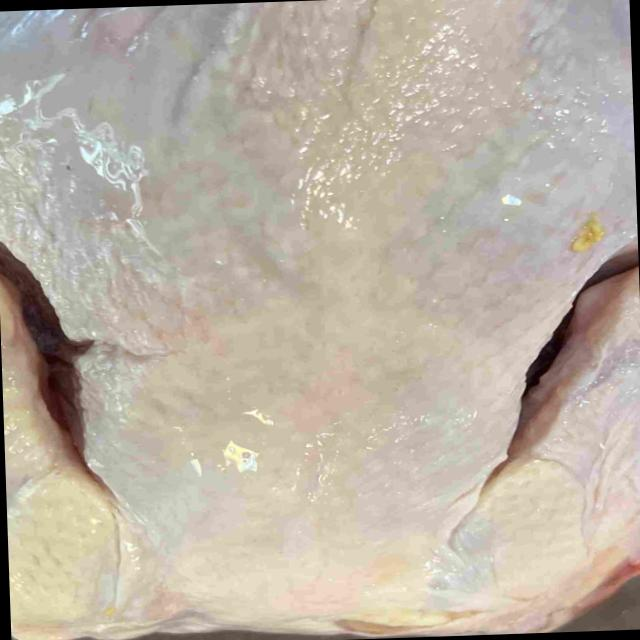back: (13, 0, 637, 500)
wing: (396, 271, 640, 633), (0, 284, 126, 638)
